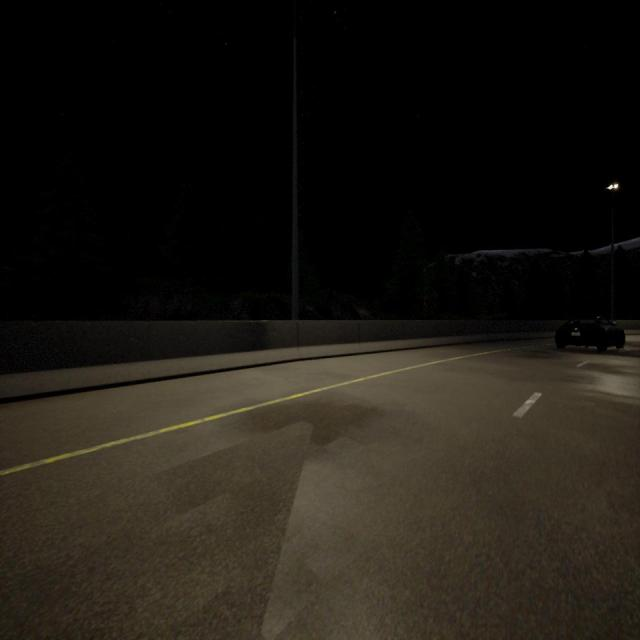Vehicle: (555, 317, 625, 351)
